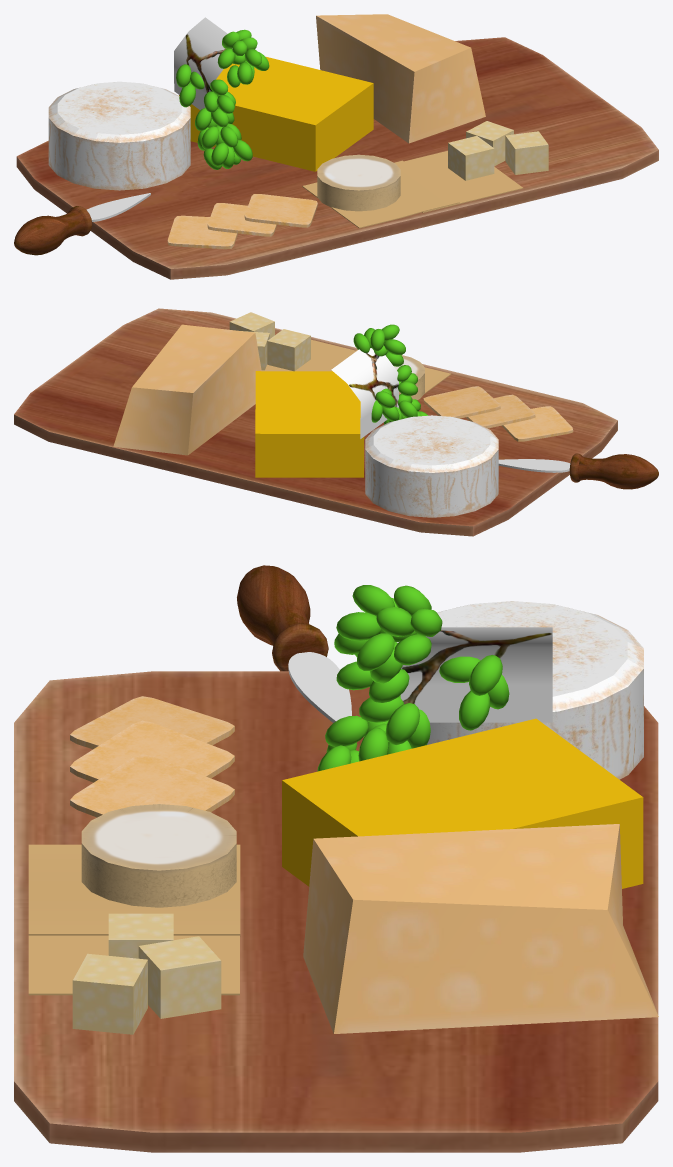
Rendered from obj_cheese_platter_134e65.glb.
3 views of the same model, one above another, from view 1: azimuth 30°, elevation 25°; view 2: azimuth 150°, elevation 25°; view 3: azimuth 270°, elevation 25° (orthographic). The views are drawn at different scales.
Visible parts, largest first — view 1: obj_cheese_platter_134e65; view 2: obj_cheese_platter_134e65; view 3: obj_cheese_platter_134e65.
Part boxes in pixels (box(x1,y1,x2,y2)): obj_cheese_platter_134e65: box(14, 14, 658, 279); obj_cheese_platter_134e65: box(14, 308, 658, 536); obj_cheese_platter_134e65: box(14, 565, 658, 1152).
Bounding box in the file's own units: 0.4 × 0.0886 × 0.2011.
Materials: 12 (12 with a texture image).
